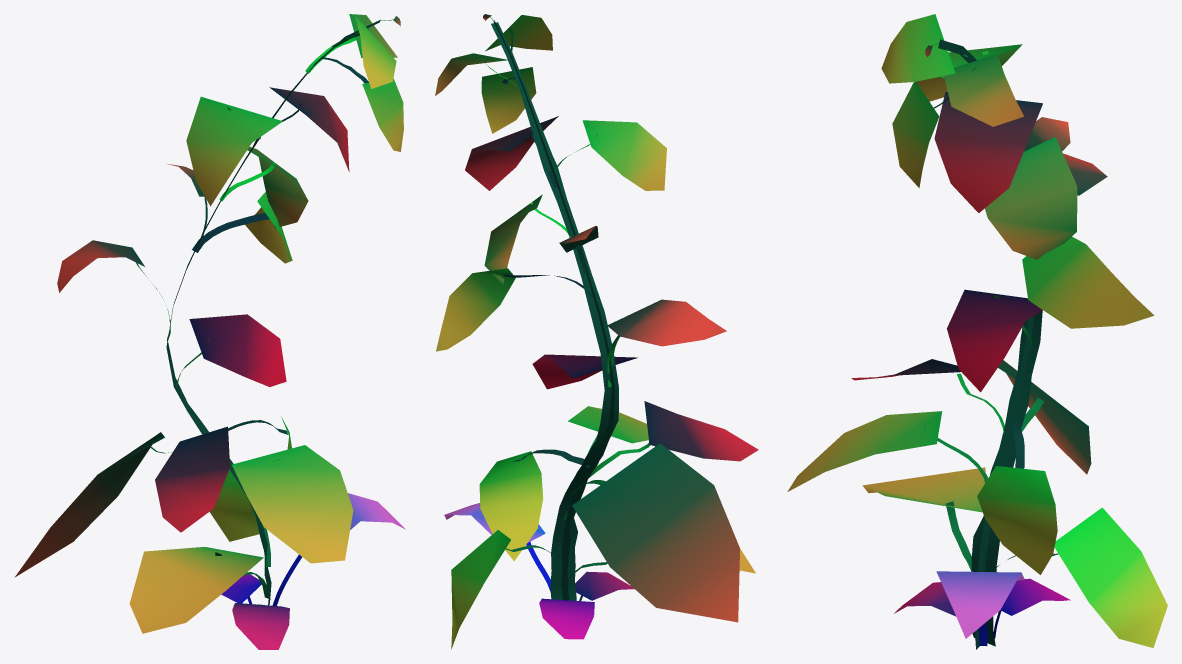
The model's file is Money_Plant_uchmfdyia_Low_uchmfdyia_VarC_LOD1.fbx.
3 views of the same model, side by side, from view 1: azimuth 30°, elevation 25°; view 2: azimuth 150°, elevation 25°; view 3: azimuth 270°, elevation 25° (orthographic). The views are drawn at different scales.
Visible parts, largest first — view 1: _a039_VarC_LOD2; view 2: _a039_VarC_LOD2; view 3: _a039_VarC_LOD2.
Boxes of the visible parts, bbox=[...] form: _a039_VarC_LOD2: bbox=[14, 14, 405, 649]; _a039_VarC_LOD2: bbox=[435, 14, 758, 649]; _a039_VarC_LOD2: bbox=[787, 14, 1167, 649].
Bounding box in the file's own units: 19.57 × 32.72 × 16.89.
